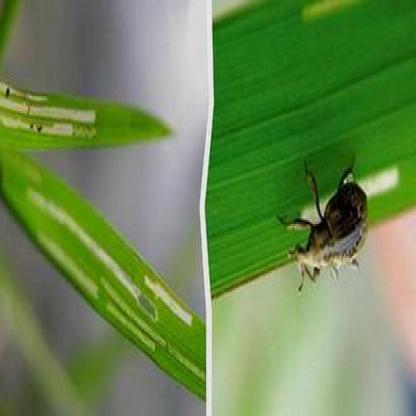rice-bug: (290, 162, 371, 287)
